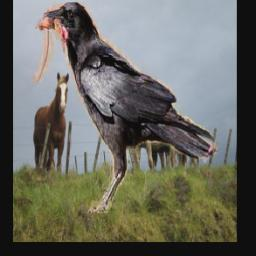Crow: (25, 0, 217, 214)
